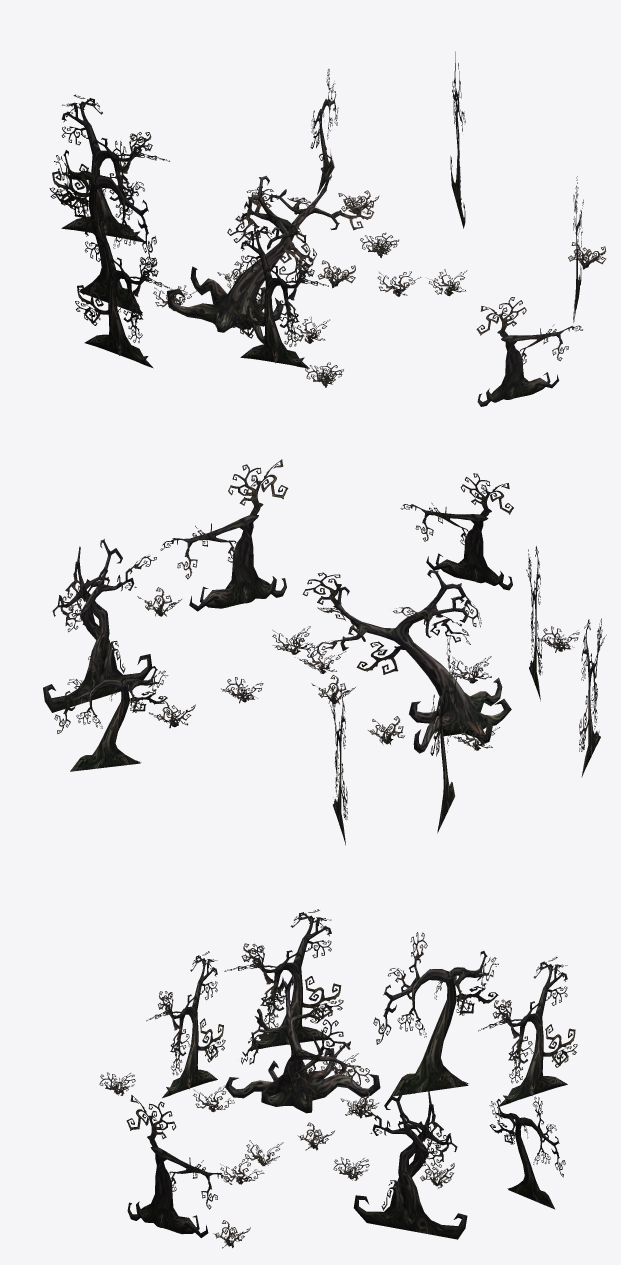
3 views of the same model, one above another, from view 1: azimuth 30°, elevation 25°; view 2: azimuth 150°, elevation 25°; view 3: azimuth 270°, elevation 25° (orthographic). The views are drawn at different scales.
Visible parts, largest first — view 1: dead_tree_01, Tree02_BG, Tree02_BG (2), Tree02_BG (1), Tree01_BG, Tree04_BG (1), dead_tree_01_leaf, Tree03_BG, Tree01_BG (1), Tree04_BG; view 2: dead_tree_01, Tree03_BG, Tree04_BG, Tree01_BG (1), Tree04_BG (1), dead_tree_01_leaf, Tree01_BG, Tree02_BG (2), Tree02_BG (1), Tree02_BG; view 3: Tree01_BG, Tree03_BG, dead_tree_01, Tree02_BG (2), Tree02_BG (1), Tree04_BG, Tree02_BG, Tree01_BG (1), dead_tree_01_leaf.
Boxes of the visible parts, x1,y1,x2,y2 form: dead_tree_01: [167, 175, 339, 344]; Tree02_BG: [231, 223, 328, 368]; Tree02_BG (2): [75, 211, 172, 368]; Tree02_BG (1): [49, 94, 169, 242]; Tree01_BG: [54, 140, 156, 315]; Tree04_BG (1): [476, 297, 582, 406]; dead_tree_01_leaf: [227, 145, 374, 284]; Tree03_BG: [450, 51, 465, 228]; Tree01_BG (1): [310, 69, 338, 194]; Tree04_BG: [573, 176, 583, 322]; dead_tree_01: [333, 570, 511, 753]; Tree03_BG: [43, 539, 156, 712]; Tree04_BG: [160, 459, 288, 611]; Tree01_BG (1): [54, 652, 168, 771]; Tree04_BG (1): [400, 473, 513, 590]; dead_tree_01_leaf: [302, 572, 481, 674]; Tree01_BG: [430, 632, 458, 833]; Tree02_BG (2): [579, 618, 606, 777]; Tree02_BG (1): [329, 686, 347, 845]; Tree02_BG: [526, 546, 542, 701]; Tree01_BG: [373, 932, 498, 1096]; Tree03_BG: [348, 1086, 467, 1239]; dead_tree_01: [225, 973, 380, 1113]; Tree02_BG (2): [224, 909, 343, 1049]; Tree02_BG (1): [478, 956, 577, 1106]; Tree04_BG: [126, 1095, 232, 1237]; Tree02_BG: [146, 951, 225, 1098]; Tree01_BG (1): [489, 1096, 565, 1209]; dead_tree_01_leaf: [241, 987, 369, 1103].
Size of the model in its own units: 25.12 by 8.95 by 27.56.
3 materials, 3 textured.
